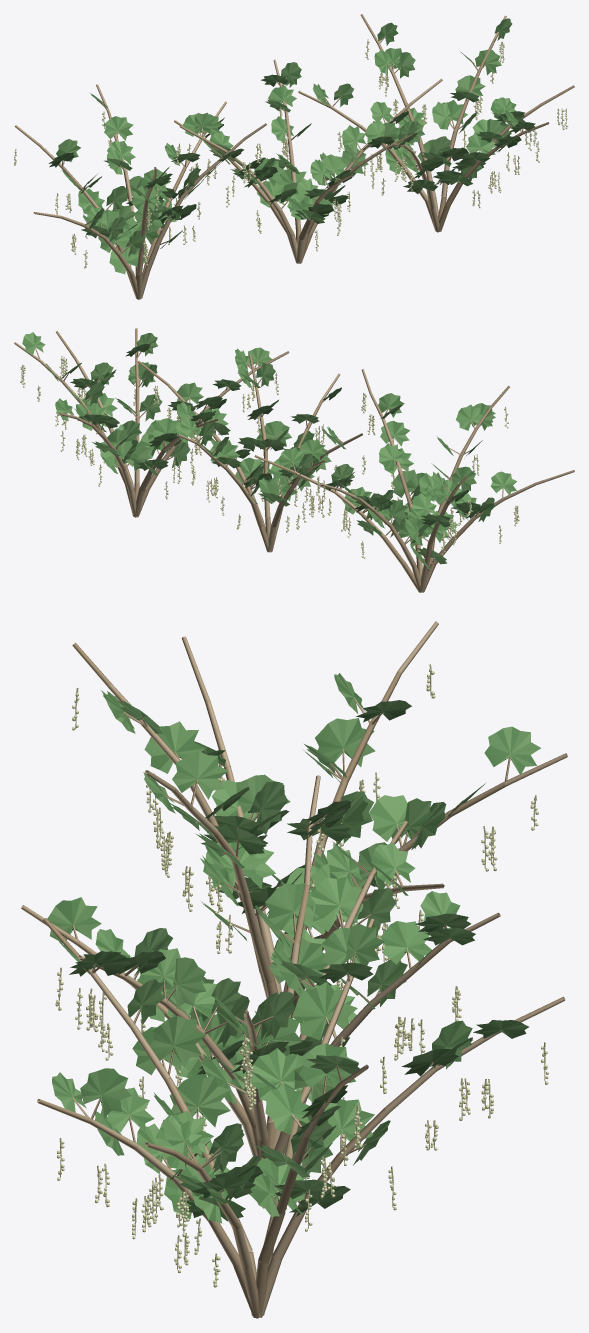
File: groseillier_fleurs.glb
3 renders of one model, top to bottom at view 1: azimuth 30°, elevation 25°; view 2: azimuth 150°, elevation 25°; view 3: azimuth 270°, elevation 25°, orthographic. The views are drawn at different scales.
Parts seen in each view (by area): view 1: Groseillier_Feuilles, Groseillier_Tiges, Groseillier_Fleurs; view 2: Groseillier_Feuilles, Groseillier_Tiges, Groseillier_Fleurs; view 3: Groseillier_Feuilles, Groseillier_Tiges, Groseillier_Fleurs.
Part boxes in pixels (x1,y1,x2,y2): Groseillier_Feuilles: (48, 18, 535, 274); Groseillier_Tiges: (14, 14, 574, 299); Groseillier_Fleurs: (14, 39, 568, 268); Groseillier_Feuilles: (22, 332, 516, 569); Groseillier_Tiges: (14, 328, 574, 592); Groseillier_Fleurs: (20, 356, 519, 558); Groseillier_Feuilles: (47, 673, 540, 1223); Groseillier_Tiges: (21, 621, 567, 1318); Groseillier_Fleurs: (55, 664, 548, 1287).
Bounding box in the file's own units: 2.51 × 0.8078 × 1.13.
